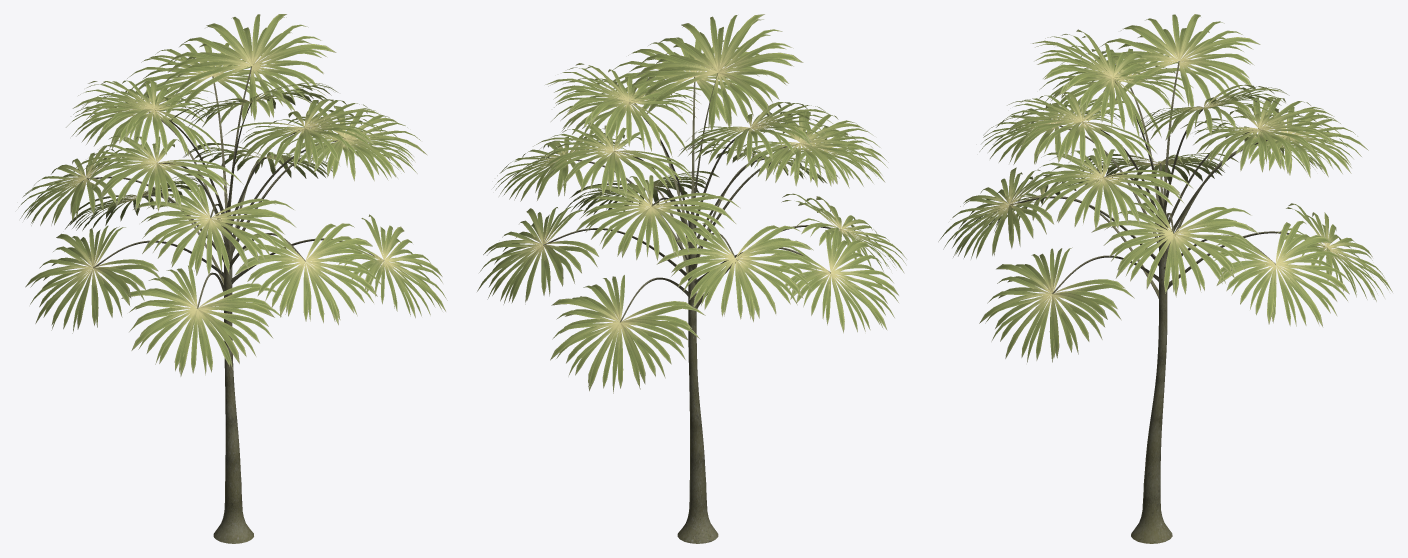
The model's file is palmeira4.fbx.
3 renders of one model, left to right at view 1: azimuth 30°, elevation 25°; view 2: azimuth 150°, elevation 25°; view 3: azimuth 270°, elevation 25°, orthographic. The views are drawn at different scales.
Parts seen in each view (by area): view 1: MH_Palm02_01_Shape; view 2: MH_Palm02_01_Shape; view 3: MH_Palm02_01_Shape.
Boxes of the visible parts, bbox=[...] form: MH_Palm02_01_Shape: bbox=[18, 14, 447, 543]; MH_Palm02_01_Shape: bbox=[477, 14, 906, 543]; MH_Palm02_01_Shape: bbox=[938, 14, 1392, 543].
Size of the model in its own units: 228 by 276 by 232.
3 materials, 3 textured.
